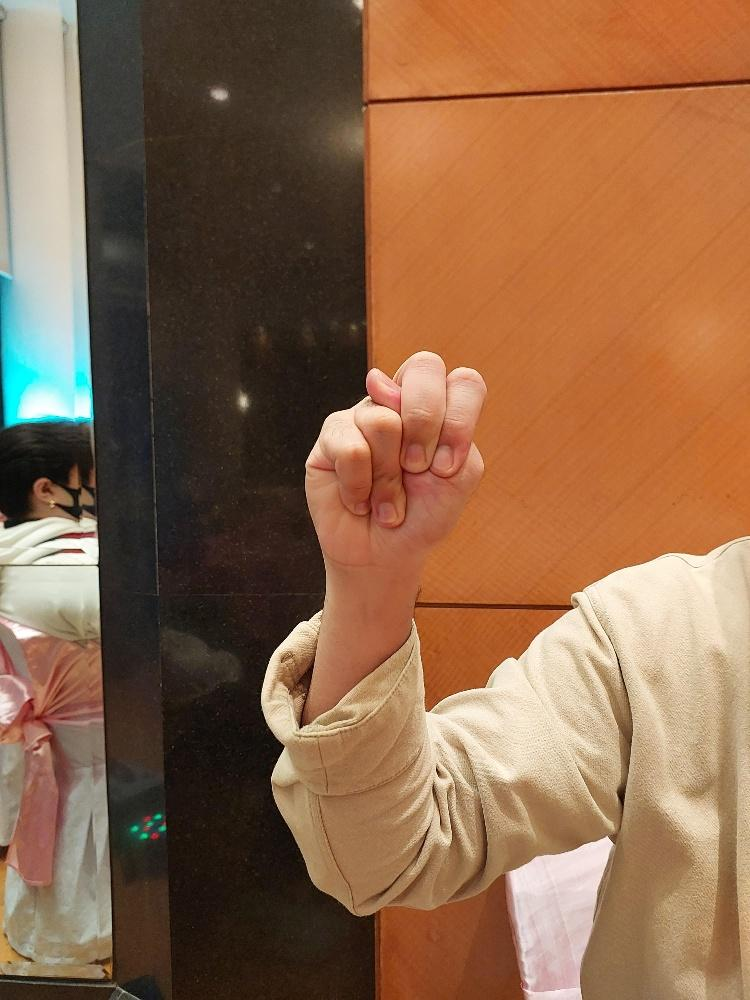n: (303, 346, 488, 571)
